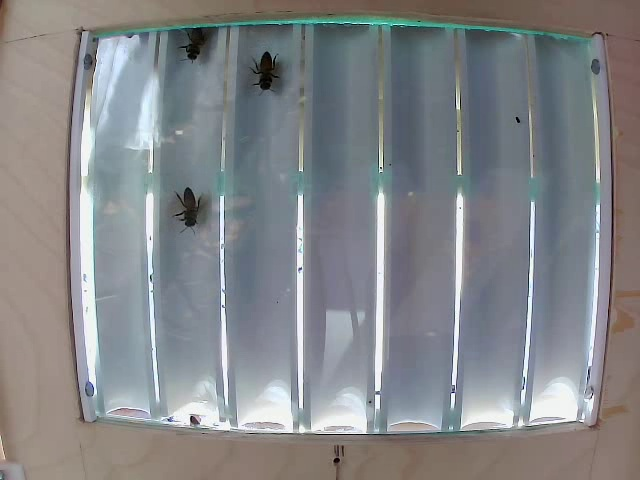bee: (248, 51, 285, 116), (161, 197, 197, 226)
